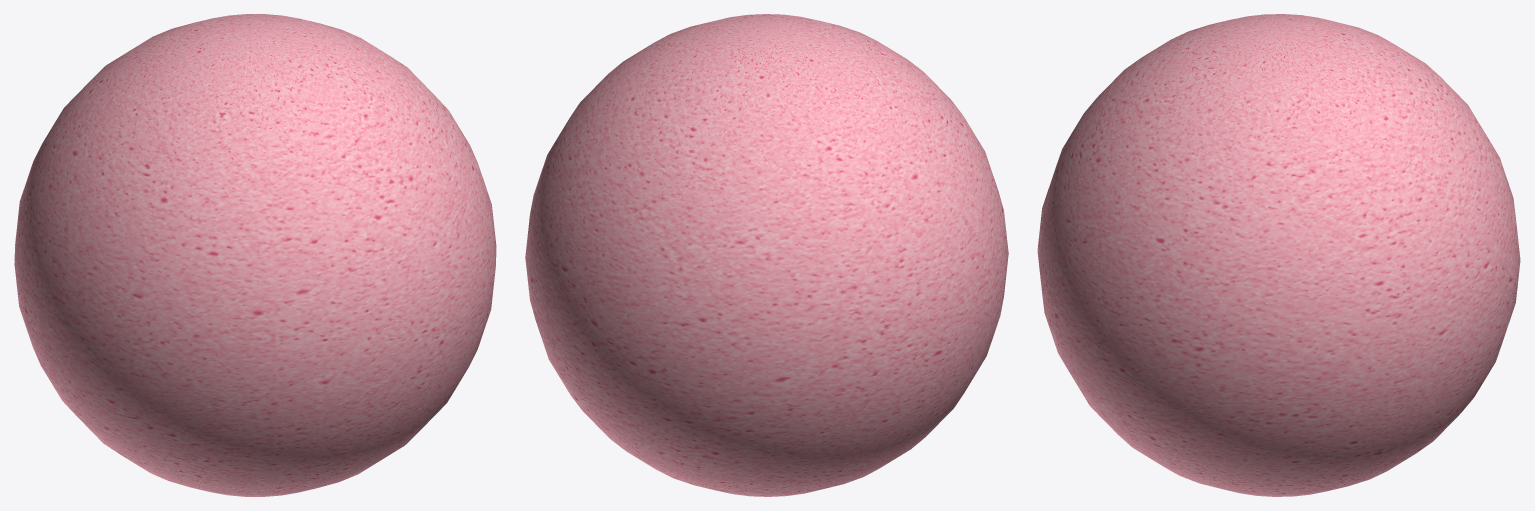
Rendered from bola_morango.glb.
3 views of the same model, side by side, from view 1: azimuth 30°, elevation 25°; view 2: azimuth 150°, elevation 25°; view 3: azimuth 270°, elevation 25° (orthographic).
Parts seen in each view (by area): view 1: Cube.052; view 2: Cube.052; view 3: Cube.052.
Boxes of the visible parts, box(x1,y1,x2,y2) form: Cube.052: box(14, 14, 496, 496); Cube.052: box(525, 14, 1008, 496); Cube.052: box(1037, 14, 1520, 496).
Size of the model in its own units: 0.1896 by 0.1898 by 0.1896.
Materials: 1 (1 with a texture image).
